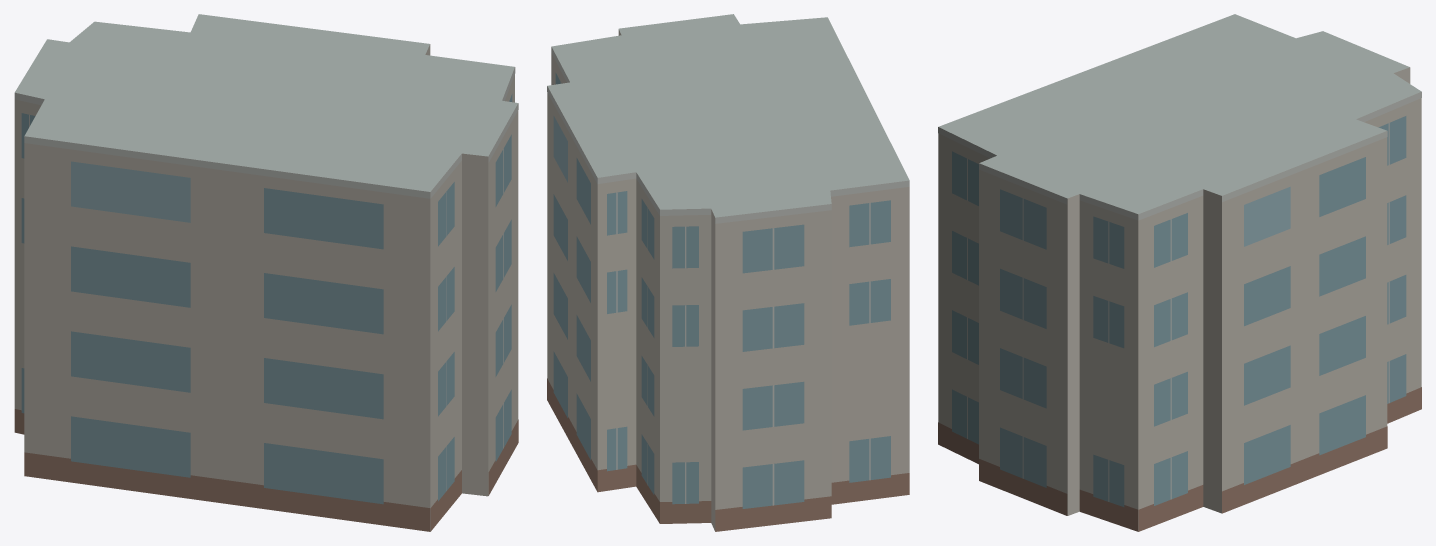
Rendered from survey-upis-32586988.glb.
3 renders of one model, left to right at view 1: azimuth 30°, elevation 25°; view 2: azimuth 150°, elevation 25°; view 3: azimuth 270°, elevation 25°, orthographic. The views are drawn at different scales.
Visible parts, largest first — view 1: survey-upis-32586988.tmp; view 2: survey-upis-32586988.tmp; view 3: survey-upis-32586988.tmp.
Boxes of the visible parts, x1=… form: survey-upis-32586988.tmp: x1=14, y1=14, x2=518, y2=531; survey-upis-32586988.tmp: x1=547, y1=14, x2=909, y2=531; survey-upis-32586988.tmp: x1=938, y1=14, x2=1421, y2=531.
Size of the model in its own units: 16.5 by 12.2 by 16.84.
